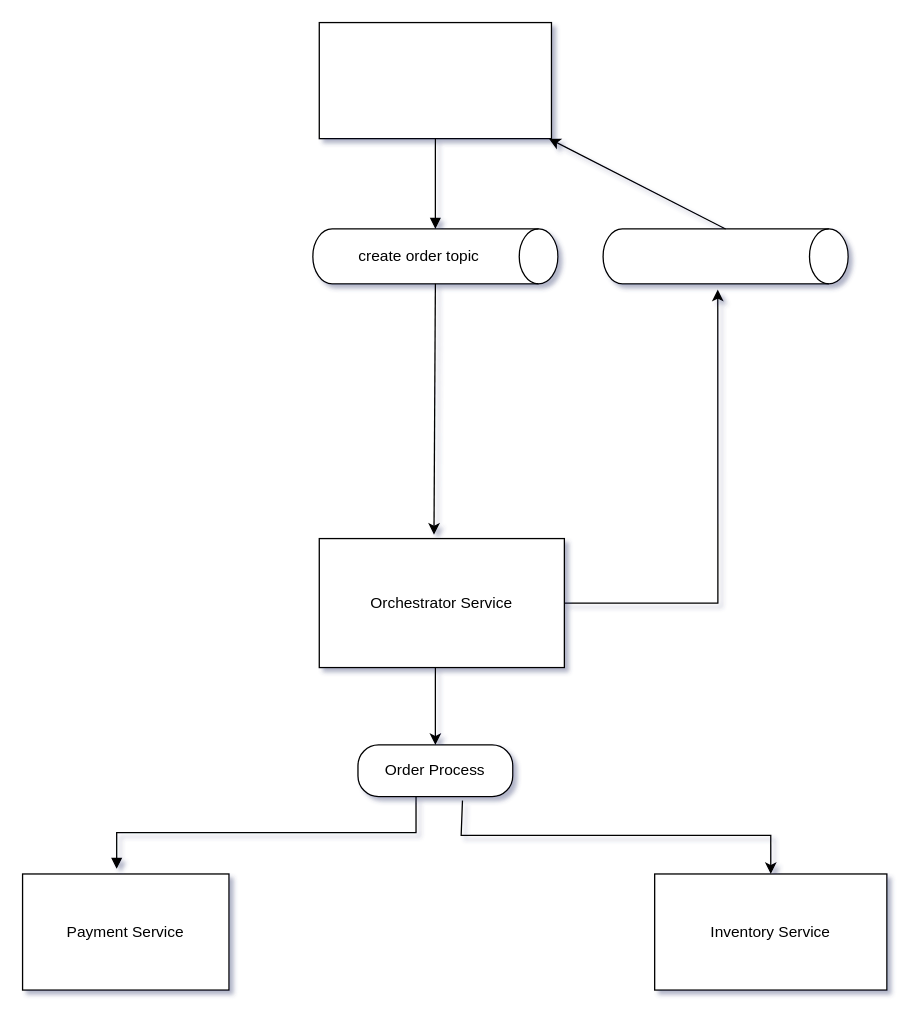
Image size: 917x1020. Some labels were removed from this diagram. Each missing label, with the centre of its shape:
"Order Service" belongs at point 434,80.
"update order topic" belongs at point 725,256.
